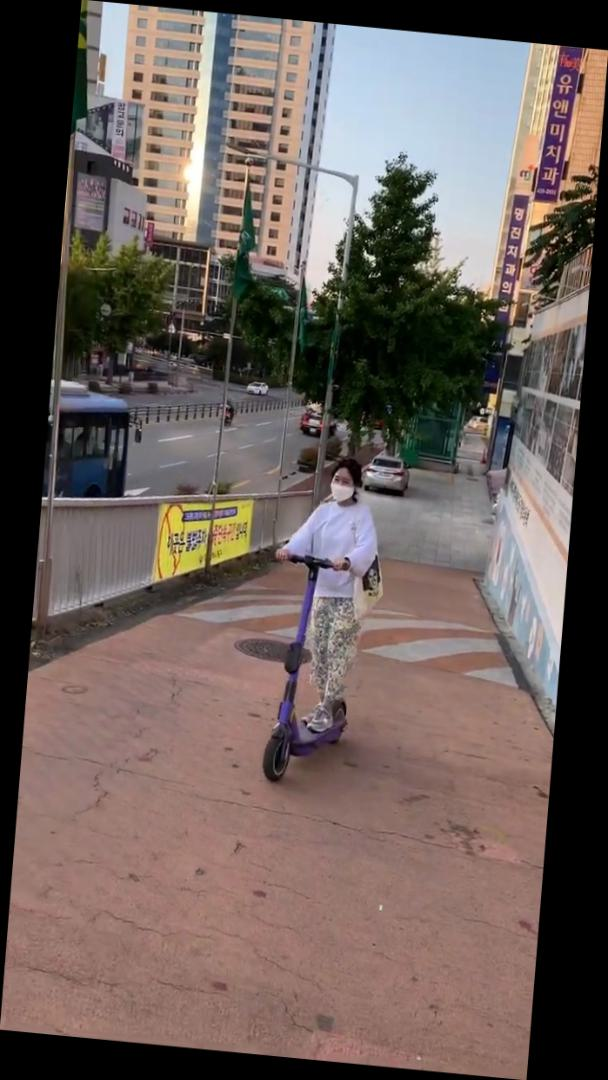nonhelmet: (245, 450, 391, 794)
